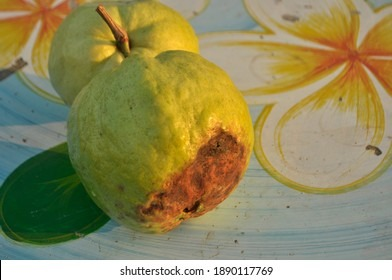guava: (42, 16, 357, 219)
